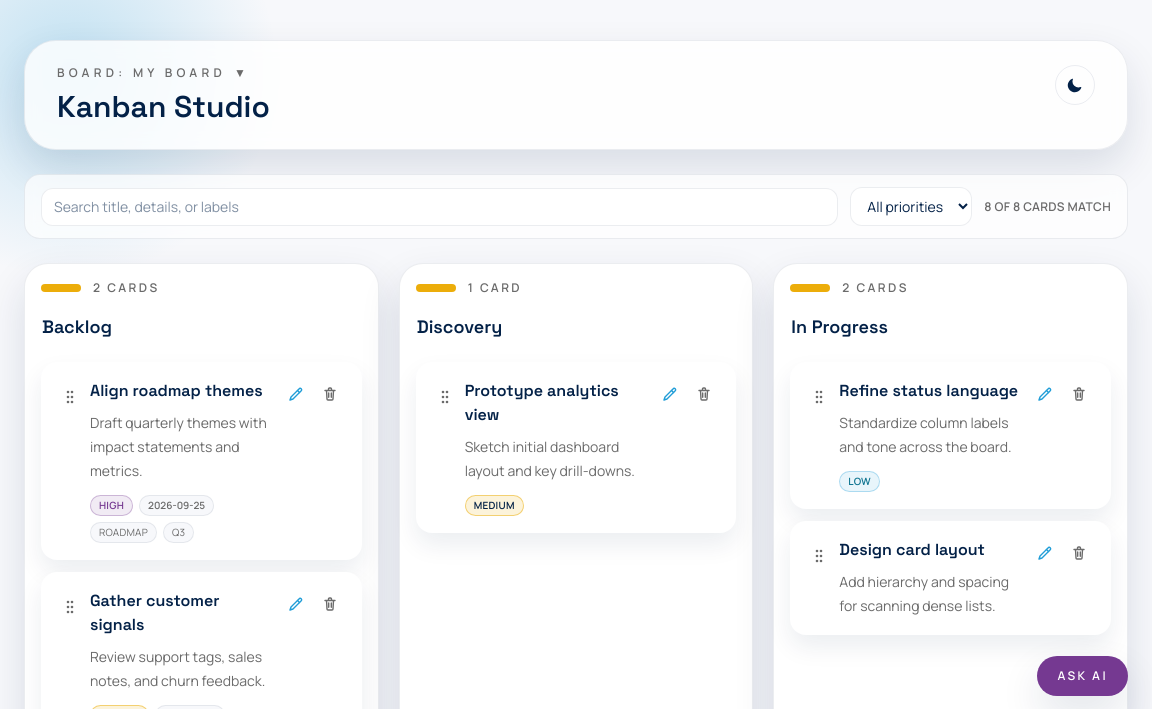
KanbanBoard › saving › clears the error once a later save succeeds
The width and height of the screenshot is (1152, 709).
Click the button named "delete align roadmap themes". click: (330, 394)
box: [315,379,345,409]
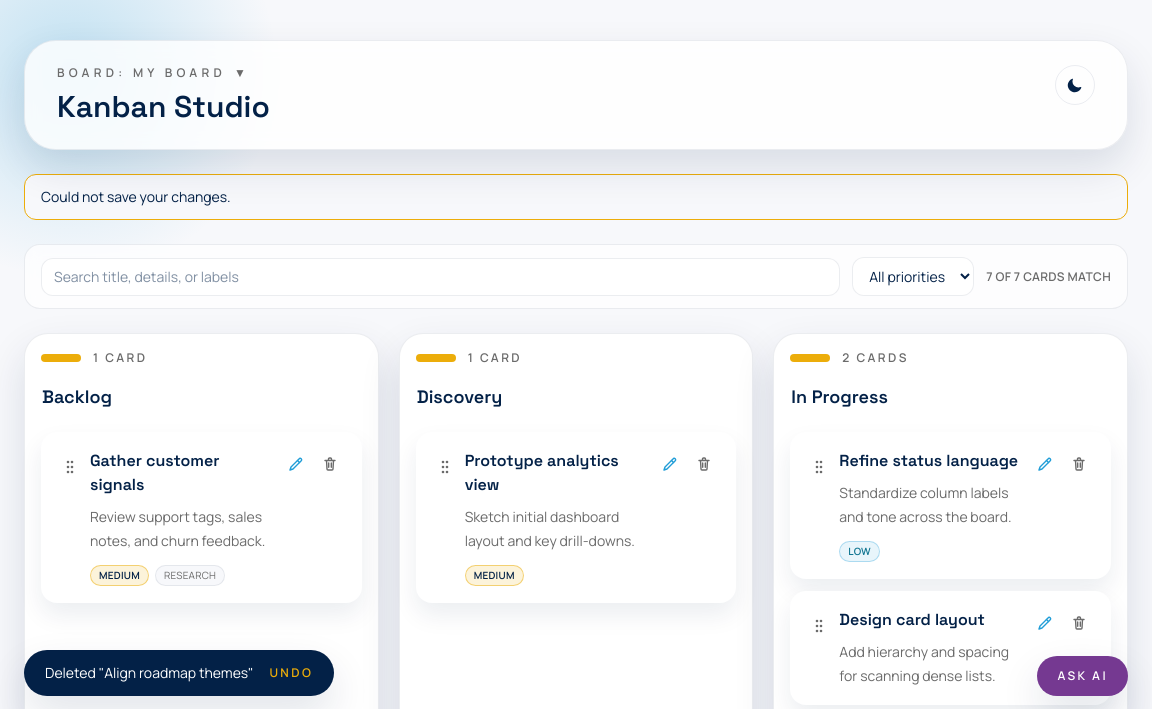
Expected: the message "Could not save your changes." is shown, [24,174,1128,220]
Click the button named "delete gather customer signals". click: (330, 464)
box: [315,449,345,479]
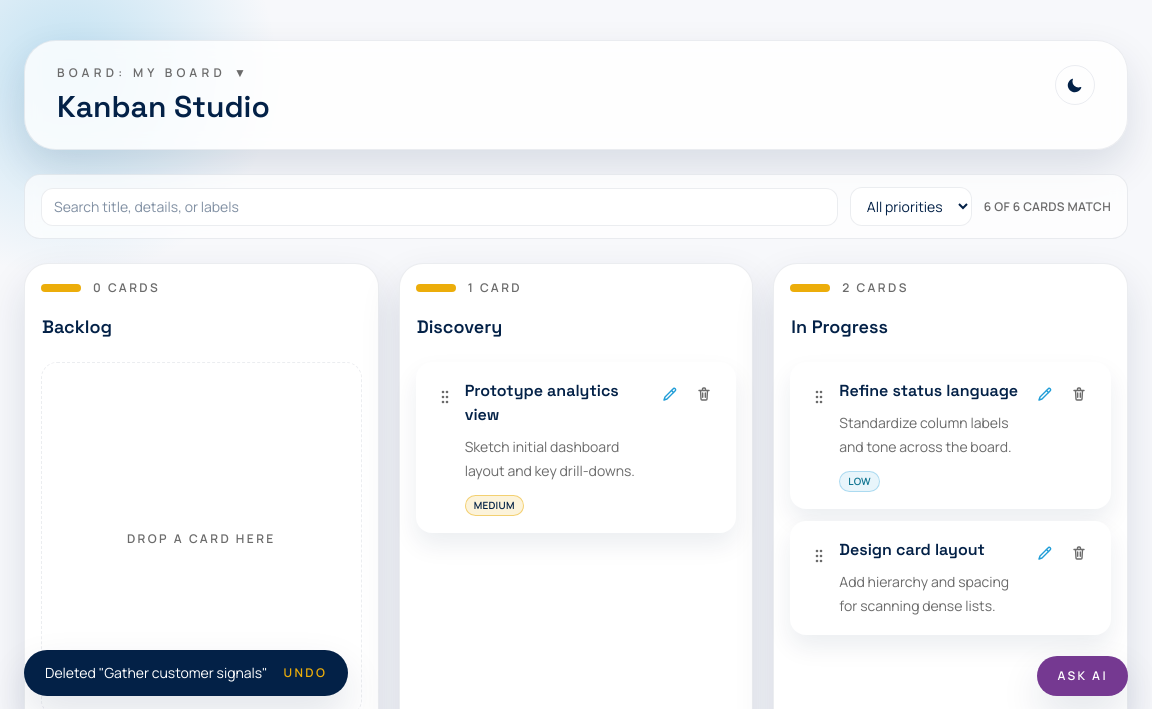
Expected: the message with test id "board-error" is gone
